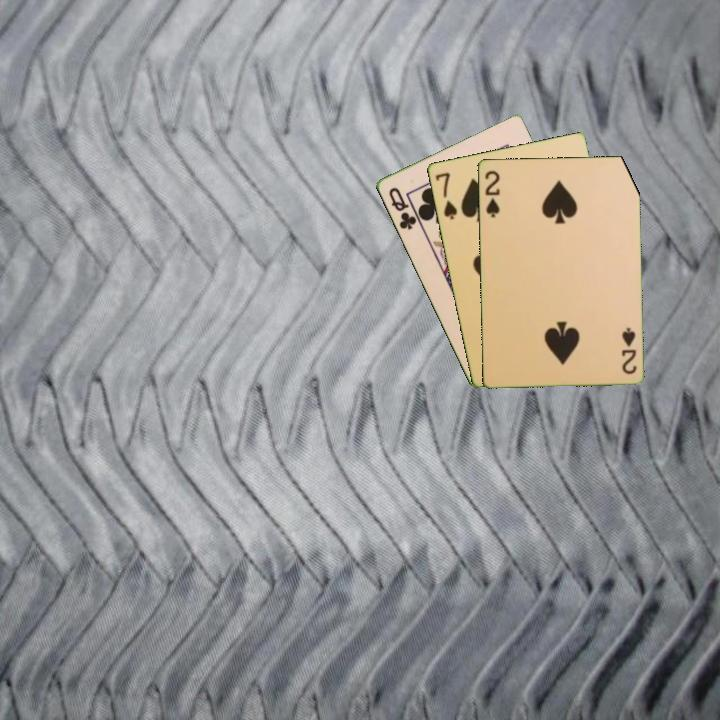2s: (481, 167, 502, 220), (618, 324, 639, 377)
7s: (431, 169, 460, 222)
Qc: (385, 183, 419, 233)
